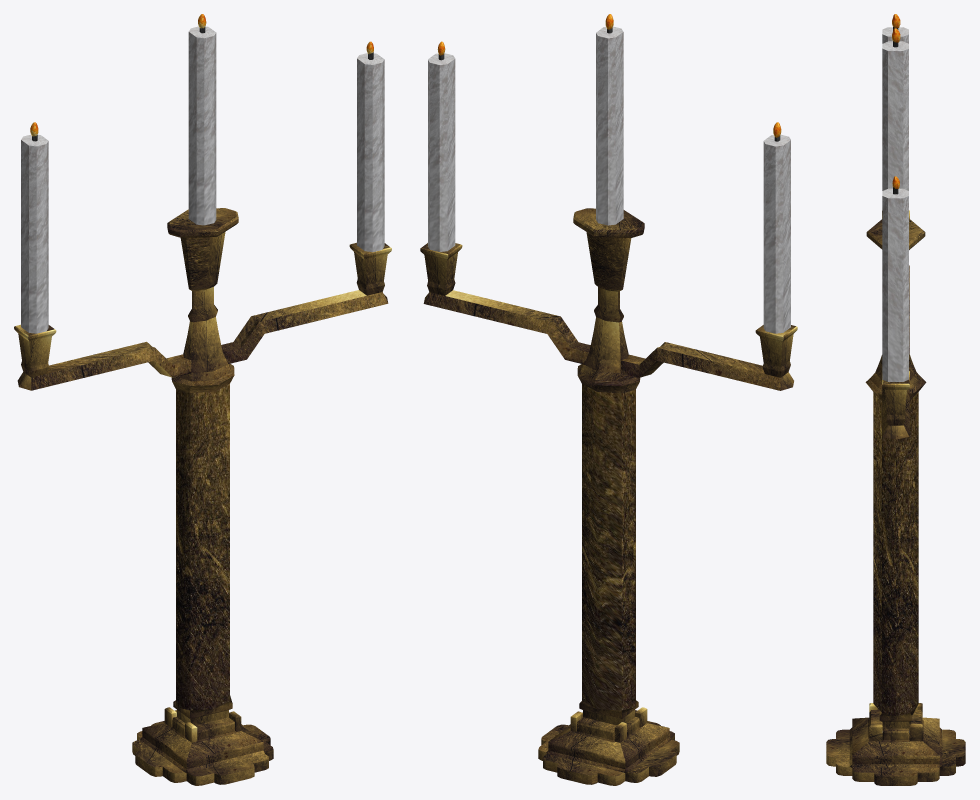
File: LargeCandle.fbx
3 renders of one model, left to right at view 1: azimuth 30°, elevation 25°; view 2: azimuth 150°, elevation 25°; view 3: azimuth 270°, elevation 25°, orthographic.
Parts seen in each view (by area): view 1: LargeCandleShape; view 2: LargeCandleShape; view 3: LargeCandleShape.
Part boxes in pixels (<box>): LargeCandleShape: <box>14,14,391,785</box>; LargeCandleShape: <box>420,14,797,785</box>; LargeCandleShape: <box>826,14,965,785</box>.
Size of the model in its own units: 4.78 by 9.21 by 1.59.
Materials: 5 (4 with a texture image).
